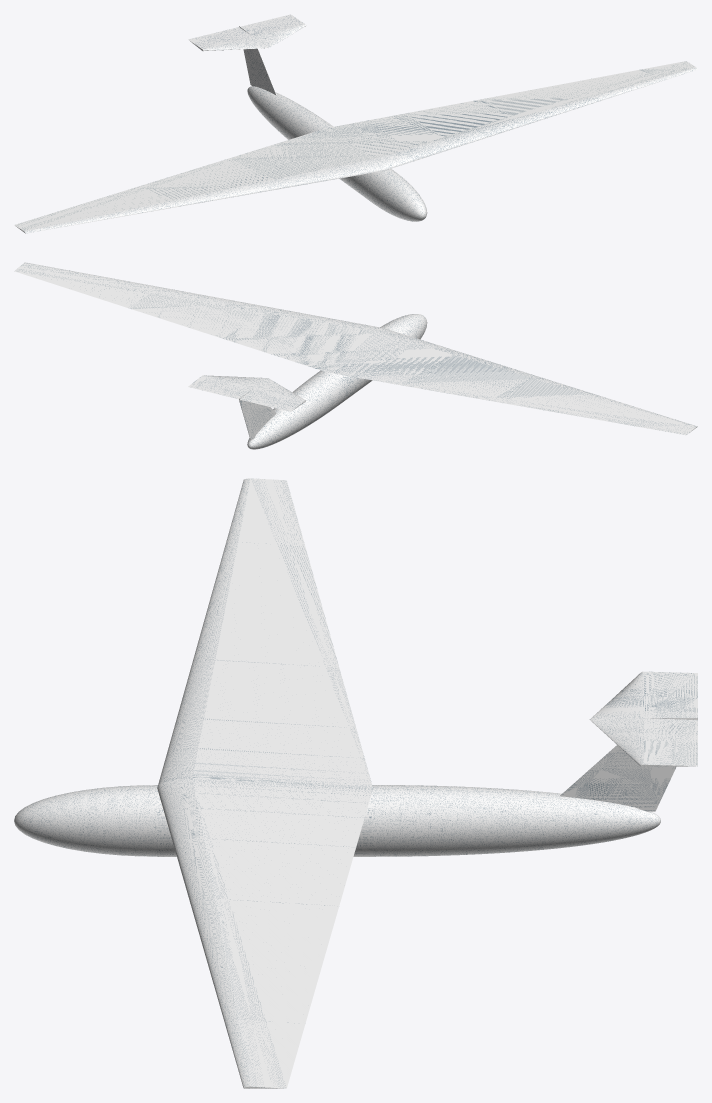
Rendered from Glider.dae.
3 views of the same model, one above another, from view 1: azimuth 30°, elevation 25°; view 2: azimuth 150°, elevation 25°; view 3: azimuth 270°, elevation 25° (orthographic). The views are drawn at different scales.
Parts seen in each view (by area): view 1: SketchUp; view 2: SketchUp; view 3: SketchUp.
Boxes of the visible parts, bbox=[...] form: SketchUp: bbox=[14, 14, 697, 233]; SketchUp: bbox=[14, 262, 697, 449]; SketchUp: bbox=[14, 478, 697, 1088].
Bounding box in the file's own units: 1575 × 748 × 163.
